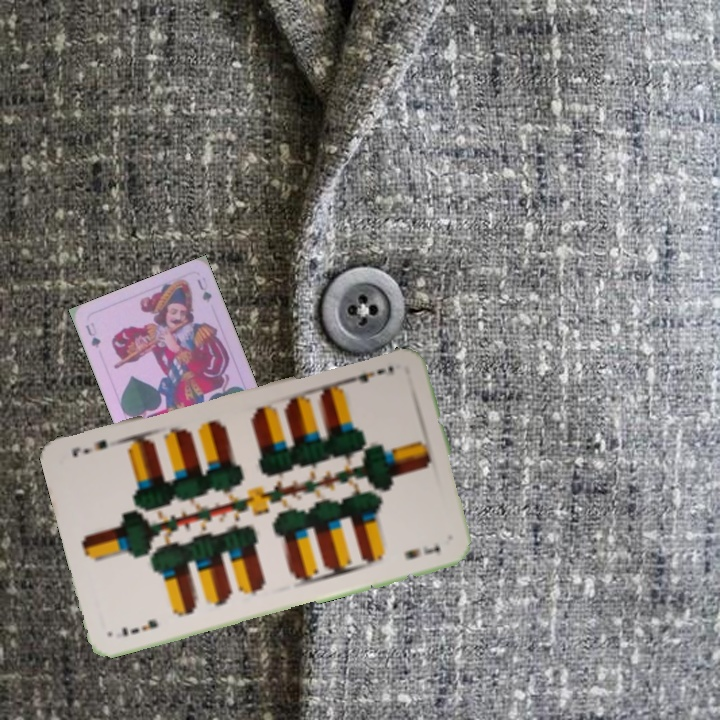E7: (344, 361, 397, 386), (117, 616, 160, 639)
GU: (81, 318, 103, 351)
